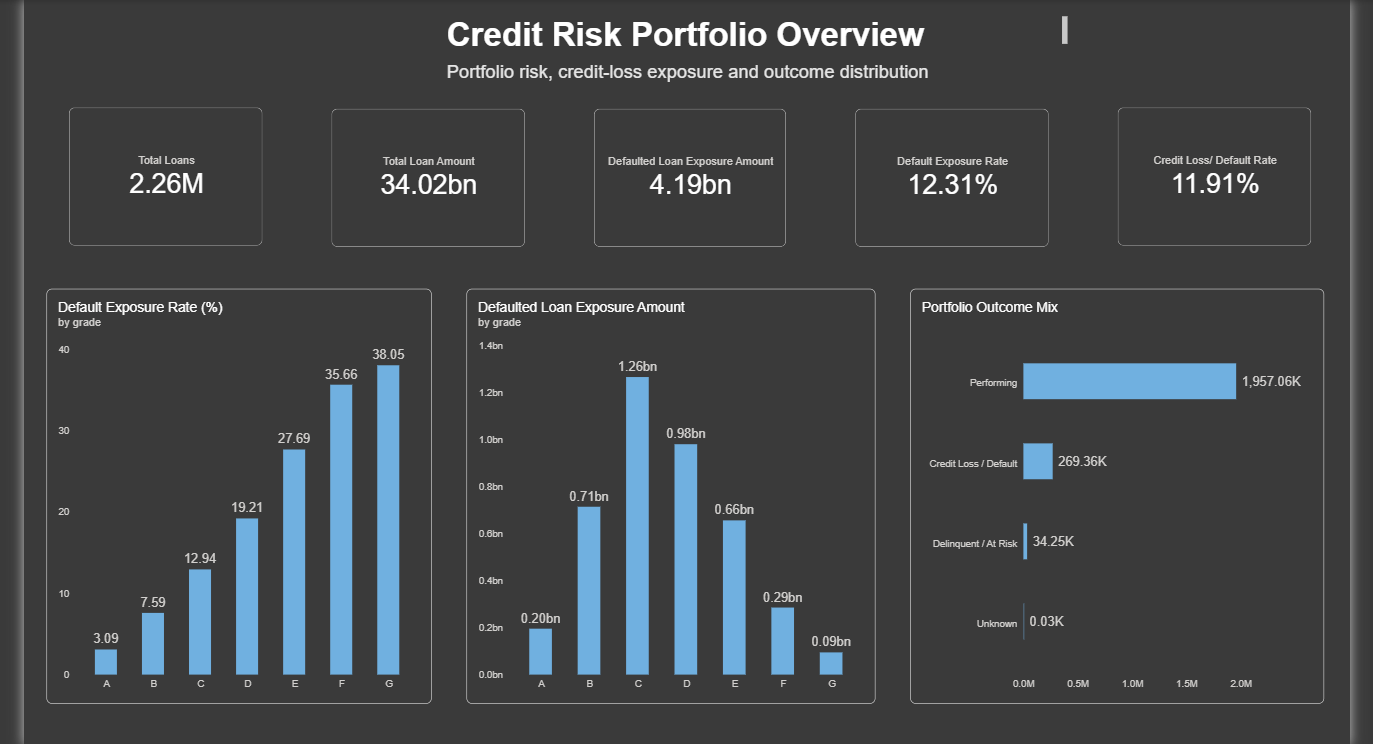

The page's visual inventory and layout, read from the dashboard file:
{"tool":"powerbi","page":{"name":"Credit Risk Portfolio Overview","canvas":[1920,1080],"ordinal":0},"visuals":[{"type":"cardVisual","title":"Total Loans","fields":{"Data":["Sum(Credit Loss Concentration by Grade.loan_count)"]},"box":[65.9,156,280.5,200.9],"z":0},{"type":"cardVisual","title":"Total Loans","fields":{"Data":["Sum(Credit Loss Concentration by Grade.total_loan_amount)"]},"box":[445.7,157.4,280.5,200.9],"z":1000},{"type":"cardVisual","title":"Total Loans","fields":{"Data":["Sum(Credit Loss Concentration by Grade.credit_loss_amount)"]},"box":[825.6,157.4,278.7,200.9],"z":2000},{"type":"clusteredColumnChart","fields":{"Category":["Credit Loss Concentration by Grade.grade"],"Y":["Sum(Credit Loss Concentration by Grade.credit_loss_exposure_rate)"]},"box":[32.6,418,557.4,600.8],"z":3000},{"type":"clusteredColumnChart","fields":{"Category":["Credit Loss Concentration by Grade.grade"],"Y":["Sum(Credit Loss Concentration by Grade.credit_loss_amount)"]},"box":[640.6,418,591.8,600.8],"z":4000},{"type":"cardVisual","title":"Total Loans","fields":{"Data":["Borrower Credit Profile by Grade and Term.Credit Loss Exposure Rate"]},"box":[1203.6,157.4,280.5,200.9],"z":5000},{"type":"clusteredBarChart","title":"Portfolio Outcome Mix","fields":{"Category":["Portfolio Outcome Mix.outcome_group"],"Y":["Sum(Portfolio Outcome Mix.loan_count)"]},"box":[1283,418,599,600.8],"z":6000},{"type":"cardVisual","title":"Total Loans","fields":{"Data":["Borrower Credit Profile by Grade and Term.Credit Loss/ Default Rate"]},"box":[1583.5,155.6,280.5,200.9],"z":7000},{"type":"textbox","box":[410,24,1100.3,47.1],"z":8000},{"type":"textbox","box":[410,88,1100.3,47.1],"z":9000}]}

Visuals, with their boxes on the page's 1920x1080 design canvas (x1, y1, x2, y2). These are canvas units, not pixel positions in the 1373x744 screenshot, which may show the page scaled, cropped or inside an application window:
"Total Loans" cardVisual: locate(66, 156, 346, 357)
"Total Loans" cardVisual: locate(446, 157, 726, 358)
"Total Loans" cardVisual: locate(826, 157, 1104, 358)
clusteredColumnChart - Credit Loss Concentration by Grade.grade x Sum(Credit Loss Concentration by Grade.credit_loss_exposure_rate): locate(33, 418, 590, 1019)
clusteredColumnChart - Credit Loss Concentration by Grade.grade x Sum(Credit Loss Concentration by Grade.credit_loss_amount): locate(641, 418, 1232, 1019)
"Total Loans" cardVisual: locate(1204, 157, 1484, 358)
"Portfolio Outcome Mix" clusteredBarChart: locate(1283, 418, 1882, 1019)
"Total Loans" cardVisual: locate(1584, 156, 1864, 356)
textbox: locate(410, 24, 1510, 71)
textbox: locate(410, 88, 1510, 135)
